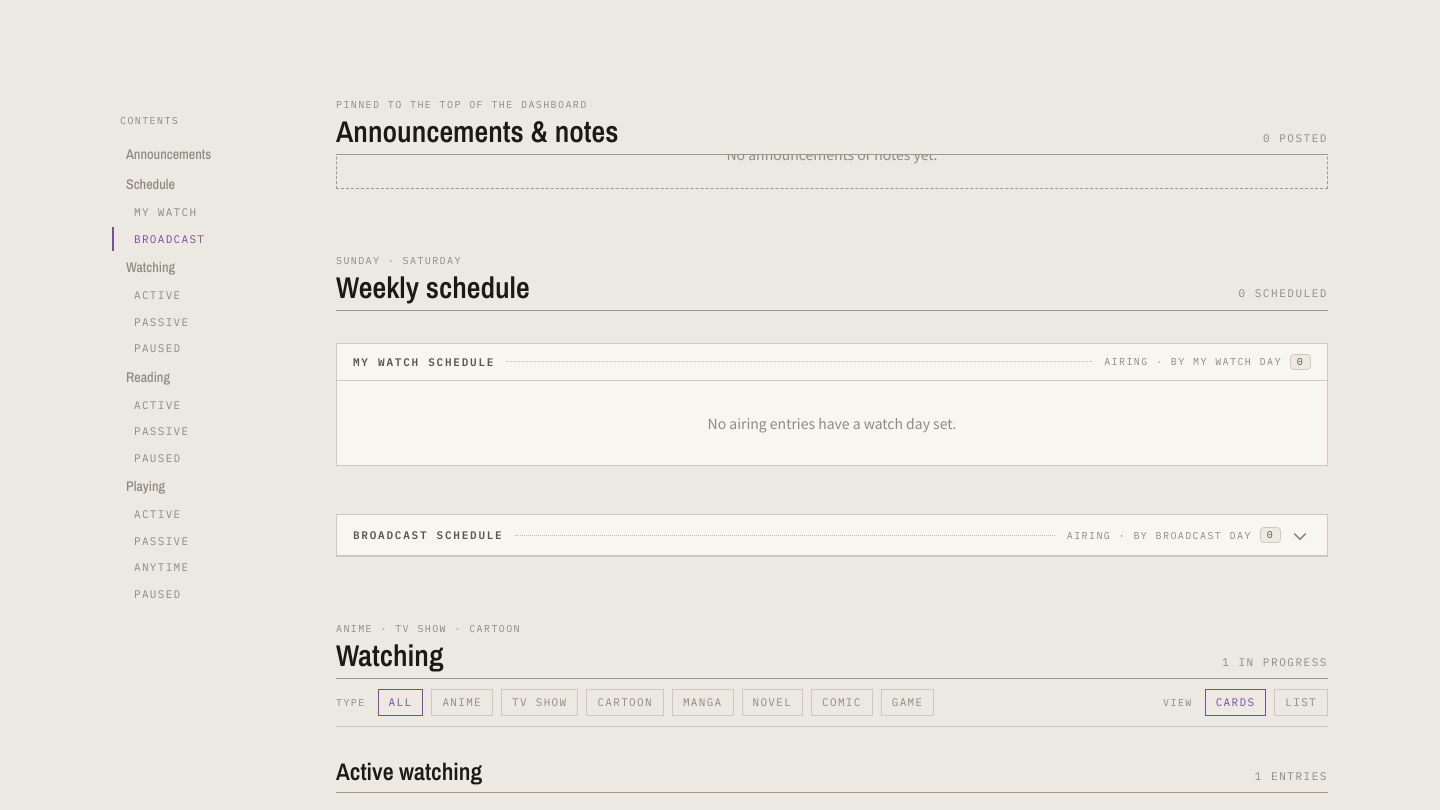
Test: switching to list renders tables with the five columns and remembers the choice
Click the button "List" at (1301, 702), box [1274,689,1328,716]
(page scrolled)
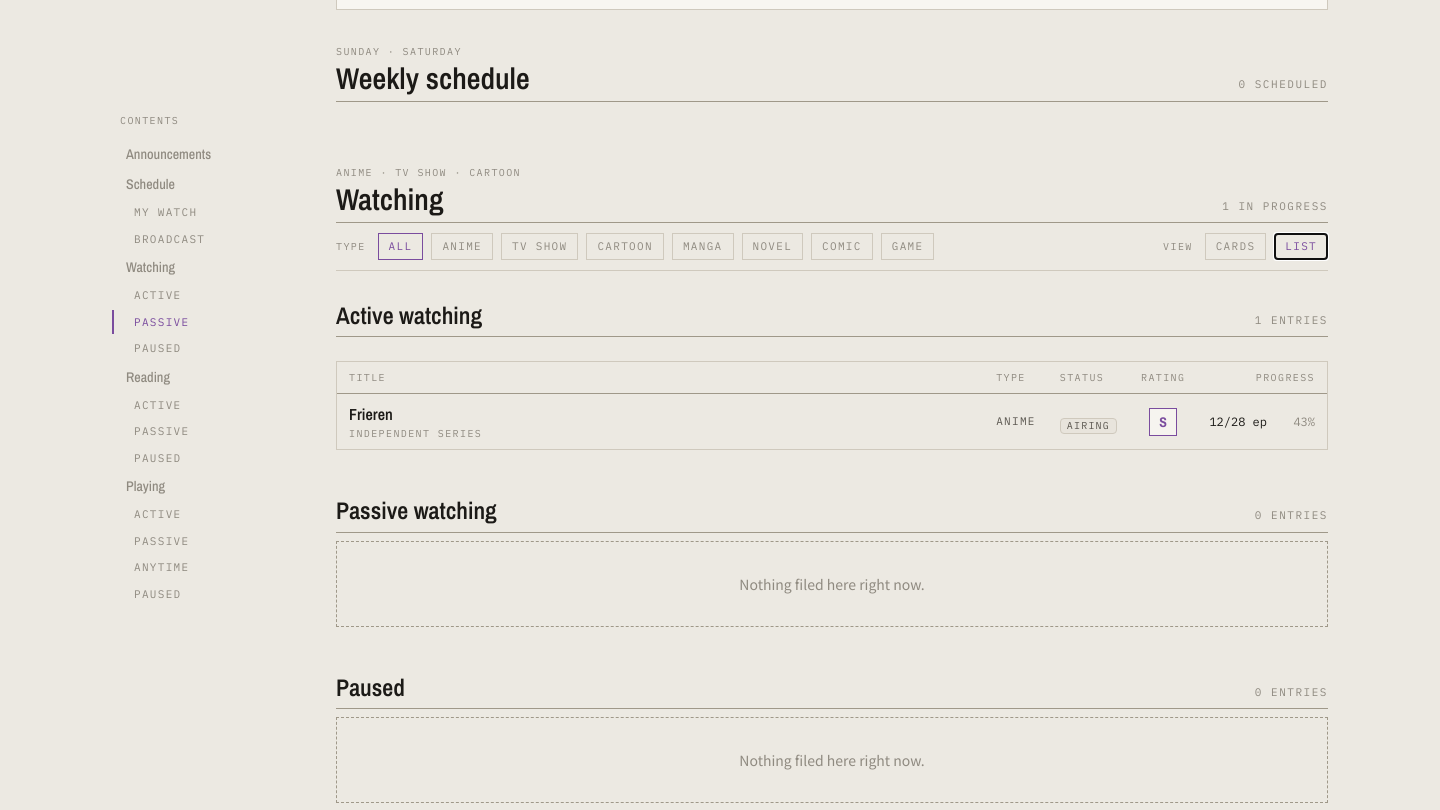
Result: the table is shown at [337,362,1327,449]
Result: the column headings read "Title", "Type", "Status", "Rating", "Progress", in this order at [337,362,984,394]; [984,362,1048,394]; [1048,362,1129,394]; [1129,362,1197,394]; [1197,362,1327,394]
